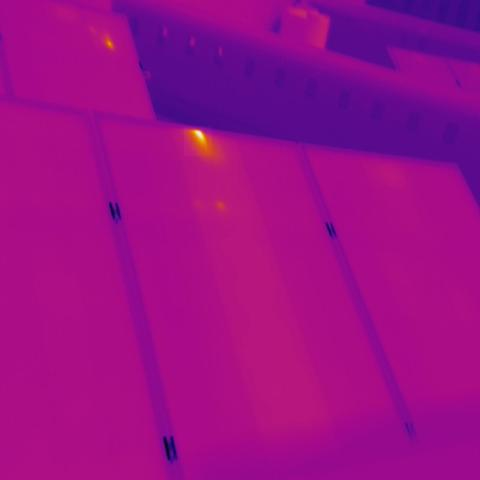fault: (184, 126, 212, 156)
